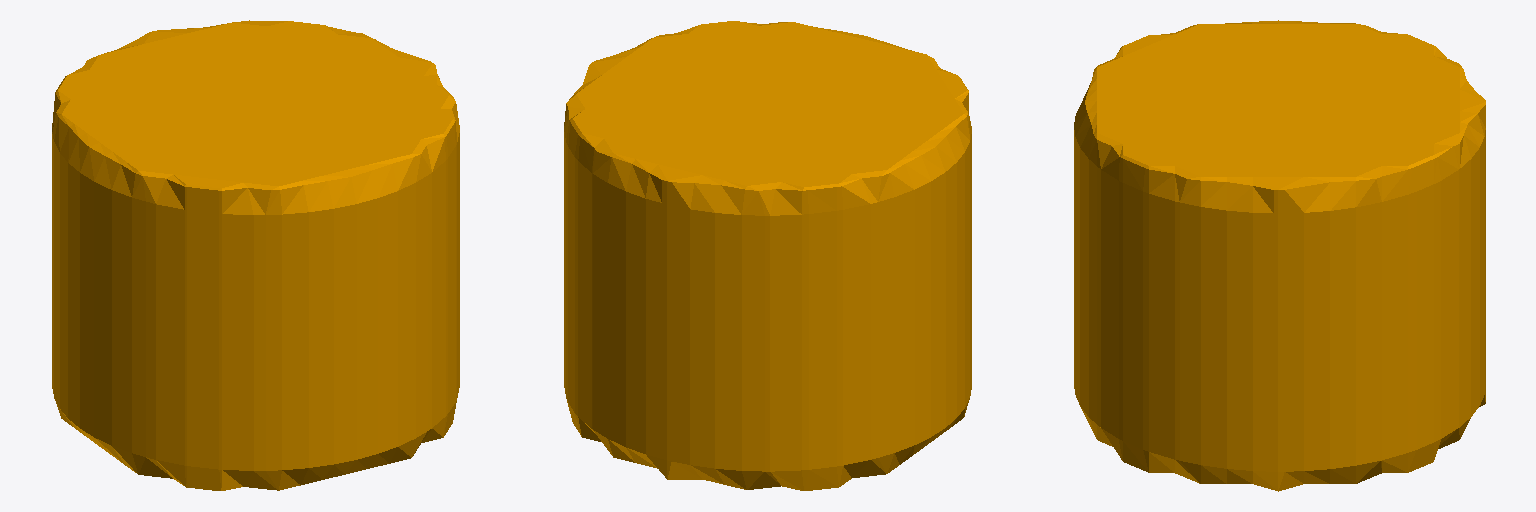
The robot description file, URDF, robot "cylinder_../../meshes/cylinders/cylinder_107.stl":
<?xml version="1.0" encoding="utf-8"?>  <robot name="cylinder_../../meshes/cylinders/cylinder_107.stl">   <link name="cylinder_../../meshes/cylinders/cylinder_107.stl">     <visual>       <geometry>         <mesh filename="../meshes/cylinders/cylinder_107.stl" scale="1 1 1"/>       </geometry>     </visual>     <collision>       <geometry>         <mesh filename="../meshes/cylinders/cylinder_107.stl" scale="1 1 1"/>       </geometry>     </collision>     <inertial>        <origin         xyz="0 0 0"         rpy="0 0 0" />       <mass value="0.321665804151858"/>       <origin rpy="0 0 0" xyz="0 0 0"/>       <inertia ixx="0.00023913074767332364" ixy="7.623320726922637e-09" ixz="-8.791506427950704e-08" iyy="0.00023913194170075162" iyz="-8.822221970390162e-08" izz="0.000251749341412806"/>     </inertial>   </link>  </robot>

--- Render facts (derived) ---
The picture shows the robot from 3 angles, left to right: view 1: azimuth 30°, elevation 25°; view 2: azimuth 150°, elevation 25°; view 3: azimuth 270°, elevation 25°; orthographic projection.
Robot: cylinder_../../meshes/cylinders/cylinder_107.stl — 1 links, 0 joints (none); root link cylinder_../../meshes/cylinders/cylinder_107.stl; default pose: all joints at 0.
Links seen in each view (by area): view 1: cylinder_../../meshes/cylinders/cylinder_107.stl; view 2: cylinder_../../meshes/cylinders/cylinder_107.stl; view 3: cylinder_../../meshes/cylinders/cylinder_107.stl.
Boxes of the visible links, x1=… form: cylinder_../../meshes/cylinders/cylinder_107.stl: x1=52, y1=20, x2=459, y2=490; cylinder_../../meshes/cylinders/cylinder_107.stl: x1=564, y1=21, x2=971, y2=490; cylinder_../../meshes/cylinders/cylinder_107.stl: x1=1074, y1=20, x2=1485, y2=491.
Bounding box of the posed robot: 0.0796 × 0.0796 × 0.0655 m (x, y, z).
Meshes: 1 distinct files referenced, 1 mesh visuals loaded (1 binary STL).